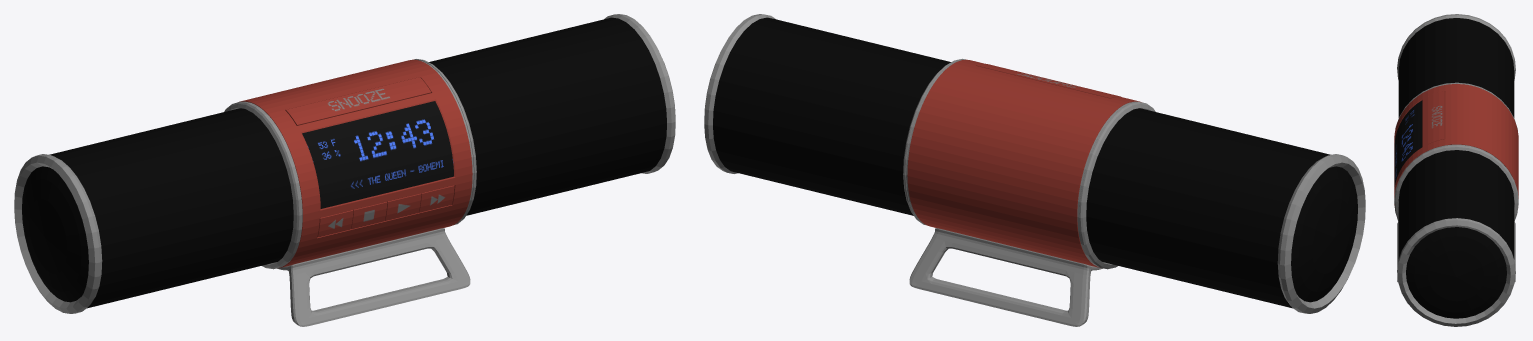
File: mp3Station.obj
3 renders of one model, left to right at view 1: azimuth 30°, elevation 25°; view 2: azimuth 150°, elevation 25°; view 3: azimuth 270°, elevation 25°, orthographic. The views are drawn at different scales.
Parts seen in each view (by area): view 1: CyraDynamic, CyraBody, CyraFeet; view 2: CyraDynamic, CyraBody, CyraFeet; view 3: CyraDynamic, CyraBody, CyraFeet.
Part boxes in pixels (x1,y1,x2,y2): CyraDynamic: (14, 14, 675, 313); CyraBody: (224, 59, 476, 269); CyraFeet: (277, 228, 470, 326); CyraDynamic: (704, 14, 1365, 313); CyraBody: (903, 58, 1155, 269); CyraFeet: (909, 228, 1102, 326); CyraDynamic: (1397, 14, 1515, 326); CyraBody: (1394, 82, 1518, 221); CyraFeet: (1397, 222, 1515, 281).
Size of the model in its own units: 39.76 by 12.14 by 9.82.
Materials: 5 (2 with a texture image).
